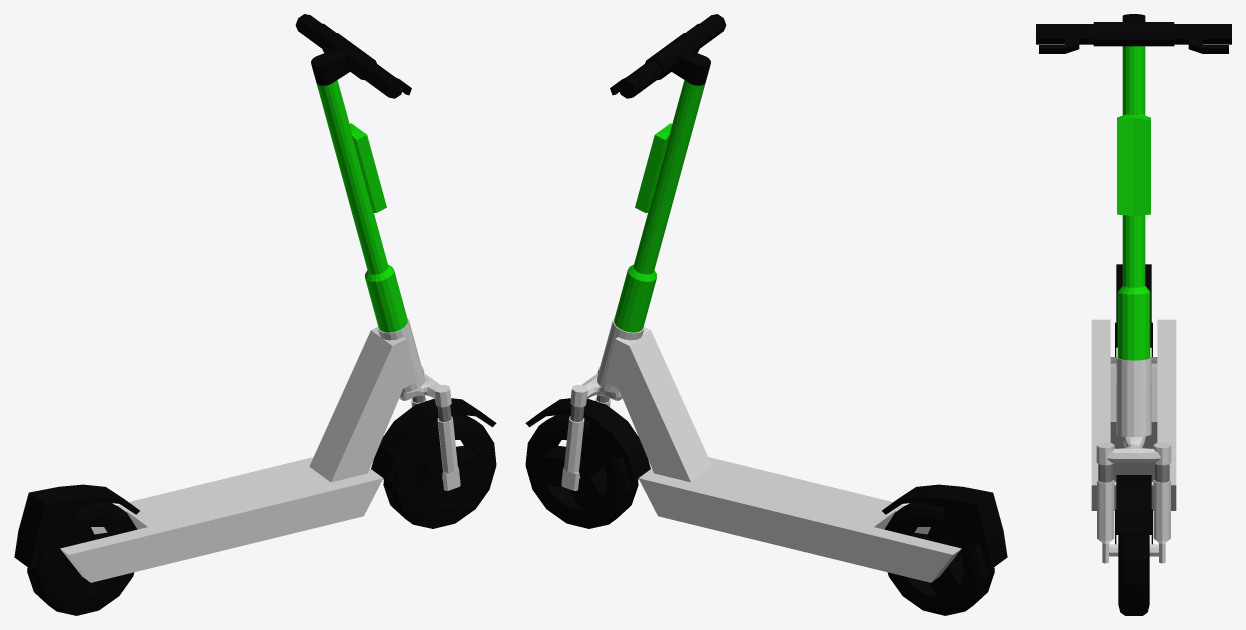
The model's file is kolobezka.fbx.
3 renders of one model, left to right at view 1: azimuth 30°, elevation 25°; view 2: azimuth 150°, elevation 25°; view 3: azimuth 270°, elevation 25°, orthographic. The views are drawn at different scales.
Visible parts, largest first — view 1: Cube; view 2: Cube; view 3: Cube.
Part boxes in pixels (bbox=[...]): Cube: bbox=[14, 14, 496, 615]; Cube: bbox=[525, 14, 1007, 615]; Cube: bbox=[1036, 14, 1231, 615].
Bounding box in the file's own units: 107 × 109 × 35.71.
